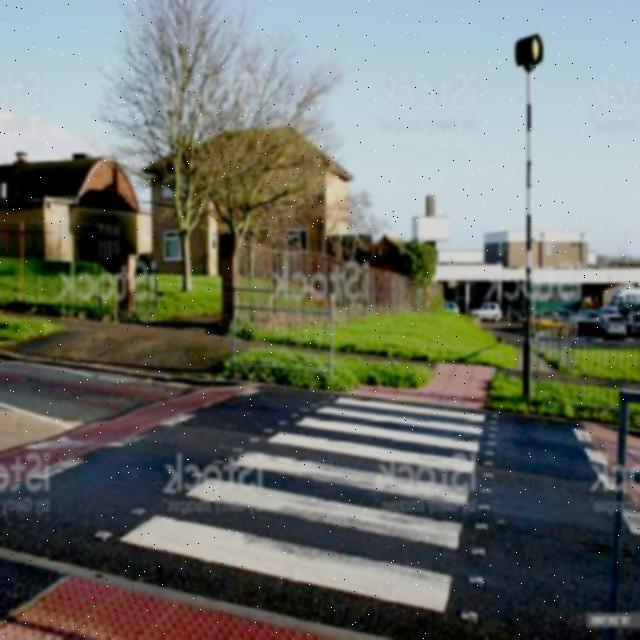Pedestrian crosswalk: (112, 394, 498, 620)
